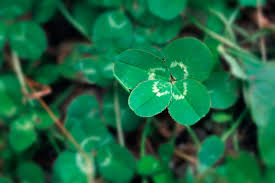4-clover: (114, 37, 214, 126)
